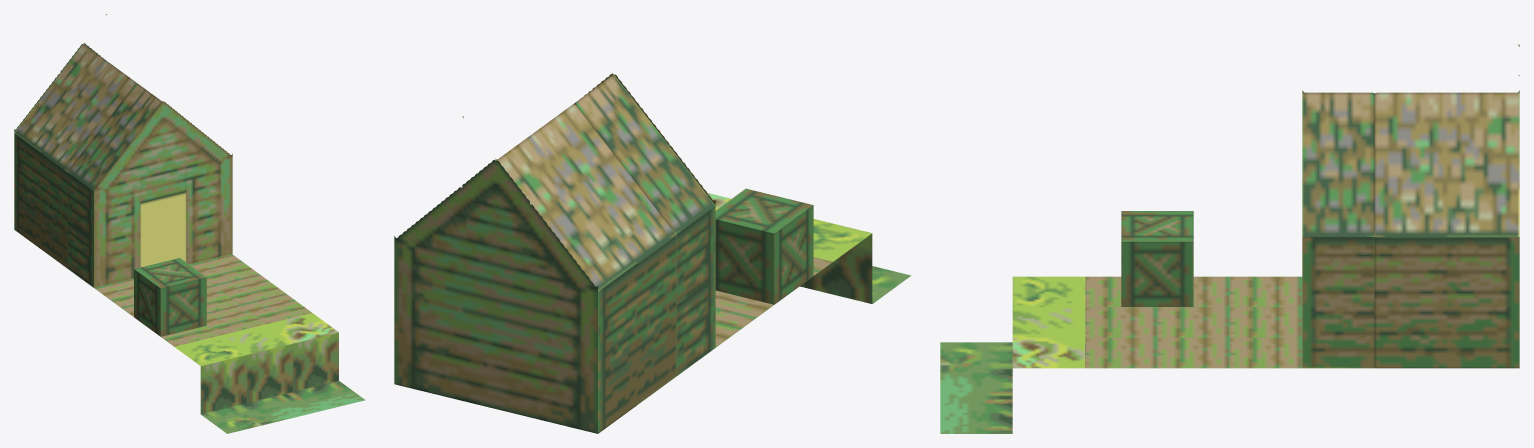
File: house.obj
The picture shows the model from 3 angles, left to right: view 1: azimuth 30°, elevation 25°; view 2: azimuth 150°, elevation 25°; view 3: azimuth 270°, elevation 25°; orthographic projection. The views are drawn at different scales.
Parts seen in each view (by area): view 1: Default; view 2: Default; view 3: Default.
Part boxes in pixels (left/top/right/bottom): Default: left=14, top=14, right=365, bottom=433; Default: left=394, top=72, right=911, bottom=433; Default: left=940, top=44, right=1519, bottom=433.
Bounding box in the file's own units: 3 × 5 × 8.
1 material, 1 textured.
